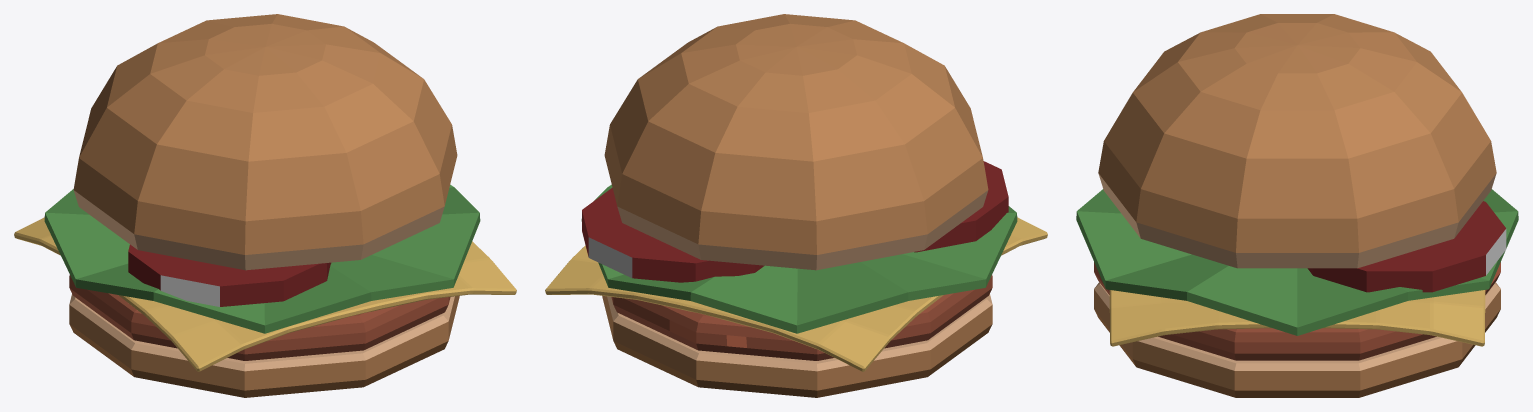
File: burguer.fbx
The picture shows the model from 3 angles, left to right: view 1: azimuth 30°, elevation 25°; view 2: azimuth 150°, elevation 25°; view 3: azimuth 270°, elevation 25°; orthographic projection.
Visible parts, largest first — view 1: pan arriba, lechuga, pan abajo, Plane, hamburguesa, rodaja tomate 02; view 2: pan arriba, lechuga, pan abajo, Plane, hamburguesa, rodaja tomate 01, rodaja tomate 02; view 3: pan arriba, lechuga, pan abajo, Plane, rodaja tomate 01, hamburguesa.
Boxes of the visible parts, x1,y1,x2,y2 form: pan arriba: (73,14,457,270); lechuga: (44,184,480,333); pan abajo: (69,294,459,397); Plane: (14,217,516,371); hamburguesa: (69,275,450,360); rodaja tomate 02: (128,244,331,306); pan arriba: (604,14,988,270); lechuga: (581,184,1017,333); pan abajo: (602,294,992,397); Plane: (545,217,1047,371); hamburguesa: (611,275,992,360); rodaja tomate 01: (582,187,764,282); rodaja tomate 02: (914,161,1008,252); pan arriba: (1098,14,1496,268); lechuga: (1076,189,1518,335); pan abajo: (1094,282,1500,397); Plane: (1109,290,1485,346); rodaja tomate 01: (1307,201,1506,292); hamburguesa: (1094,262,1500,360).
Bounding box in the file's own units: 138 × 95.19 × 138.
